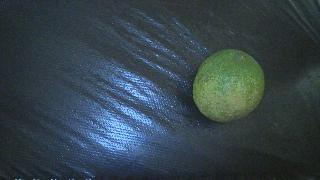DESECHO: (193, 49, 265, 122)
